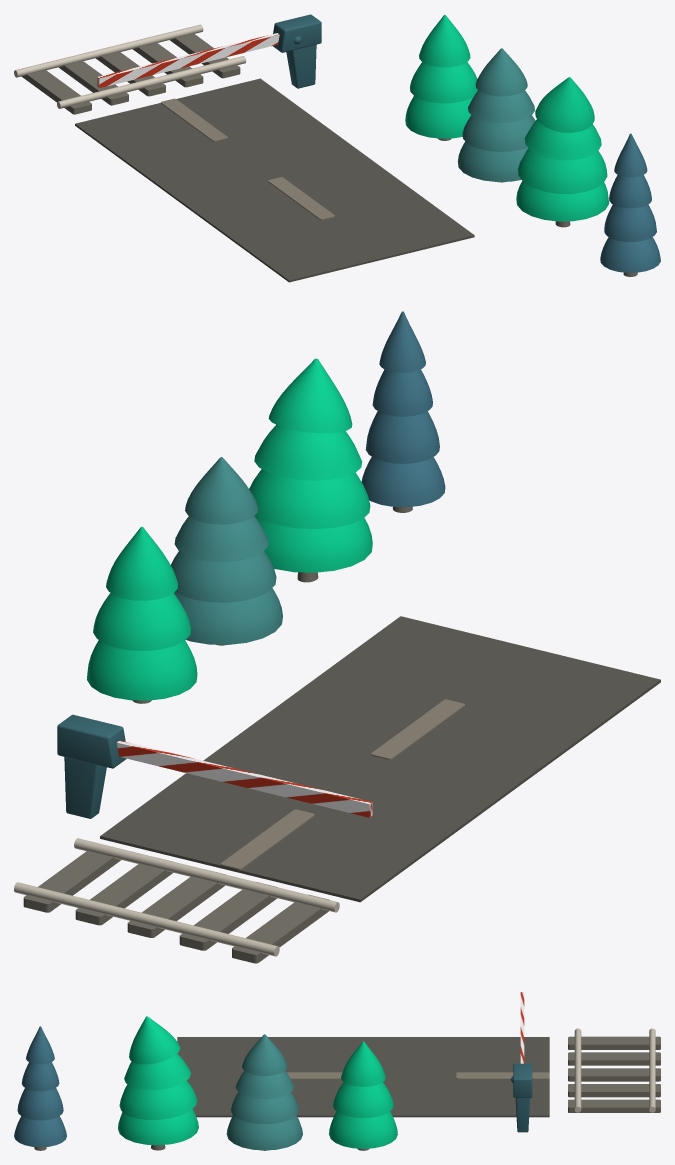
File: borne.fbx
3 views of the same model, one above another, from view 1: azimuth 30°, elevation 25°; view 2: azimuth 150°, elevation 25°; view 3: azimuth 270°, elevation 25° (orthographic). The views are drawn at different scales.
Visible parts, largest first — view 1: Route_3, Cone_6, Cone_7, Cone_5, barrière, Cone_14, Cone_15, Cone_8, Cone_10, Cone_11, Cone_13, Cone_3 (+16 smaller); view 2: Route_3, Cone_6, Cone_15, Cone_7, Cone_8, Cone_14, barrière, Cone_11, Cone_10, Cone_5, Cone_13, Cone_3 (+16 smaller); view 3: Route_3, Cone_6, Cone_7, Cone_15, Cone_11, Cone_14, Cone_8, Cone_10, Cone_5, Cone_13, Cone_3, Cone_12 (+16 smaller).
Part boxes in pixels (x1,y1,x2,y2): Route_3: [75, 78, 474, 282]; Cone_6: [518, 148, 607, 193]; Cone_7: [516, 181, 609, 221]; Cone_5: [535, 77, 594, 132]; barrière: [97, 33, 279, 87]; Cone_14: [410, 62, 477, 103]; Cone_15: [405, 96, 473, 138]; Cone_8: [524, 119, 601, 160]; Cone_10: [462, 115, 535, 151]; Cone_11: [457, 141, 528, 181]; Cone_13: [419, 15, 470, 67]; Cone_3: [600, 237, 660, 272]; Route_3: [100, 616, 660, 902]; Cone_6: [249, 469, 370, 529]; Cone_15: [87, 640, 197, 700]; Cone_7: [255, 517, 372, 572]; Cone_8: [254, 424, 362, 480]; Cone_14: [93, 593, 191, 650]; barrière: [117, 740, 372, 817]; Cone_11: [174, 588, 282, 644]; Cone_10: [171, 551, 276, 602]; Cone_5: [268, 358, 352, 433]; Cone_13: [106, 526, 178, 600]; Cone_3: [361, 457, 445, 507]; Route_3: [177, 1037, 549, 1117]; Cone_6: [119, 1080, 197, 1119]; Cone_7: [118, 1109, 198, 1145]; Cone_15: [329, 1111, 397, 1148]; Cone_11: [226, 1115, 302, 1150]; Cone_14: [333, 1082, 393, 1118]; Cone_8: [124, 1053, 190, 1090]; Cone_10: [231, 1092, 298, 1124]; Cone_5: [129, 1016, 180, 1064]; Cone_13: [341, 1041, 385, 1086]; Cone_3: [14, 1116, 66, 1147]; Cone_12: [235, 1071, 293, 1099].
Bounding box in the file's own units: 1634 × 791 × 3476.
9 materials, 1 textured.
